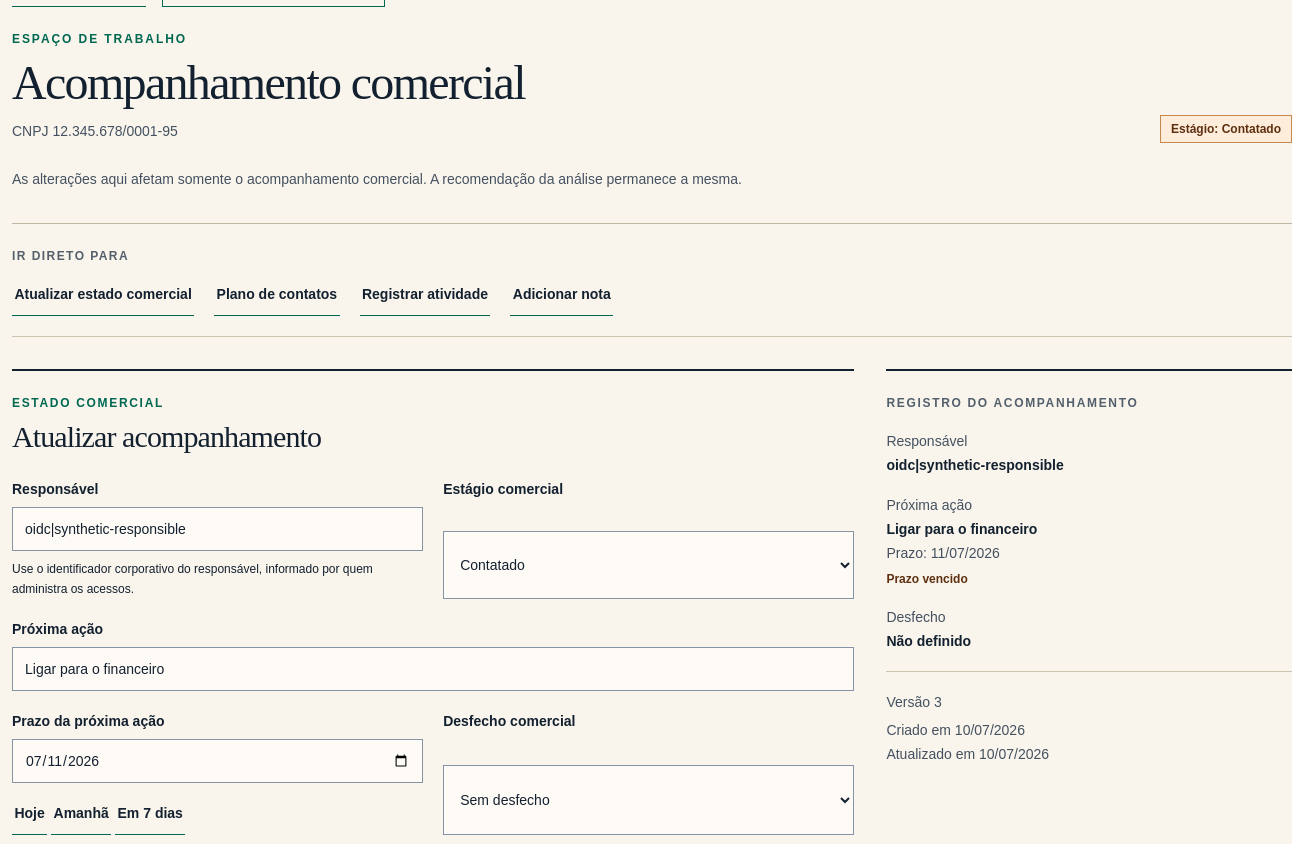
Test: commercial workspace detail page › revalidates commercial read access after PATCH 403; GET result 200
Replace the text in the field labelled "Próxima ação" with "Ação não confirmada" at point(433, 669), box [12,647,854,691]
(page scrolled)
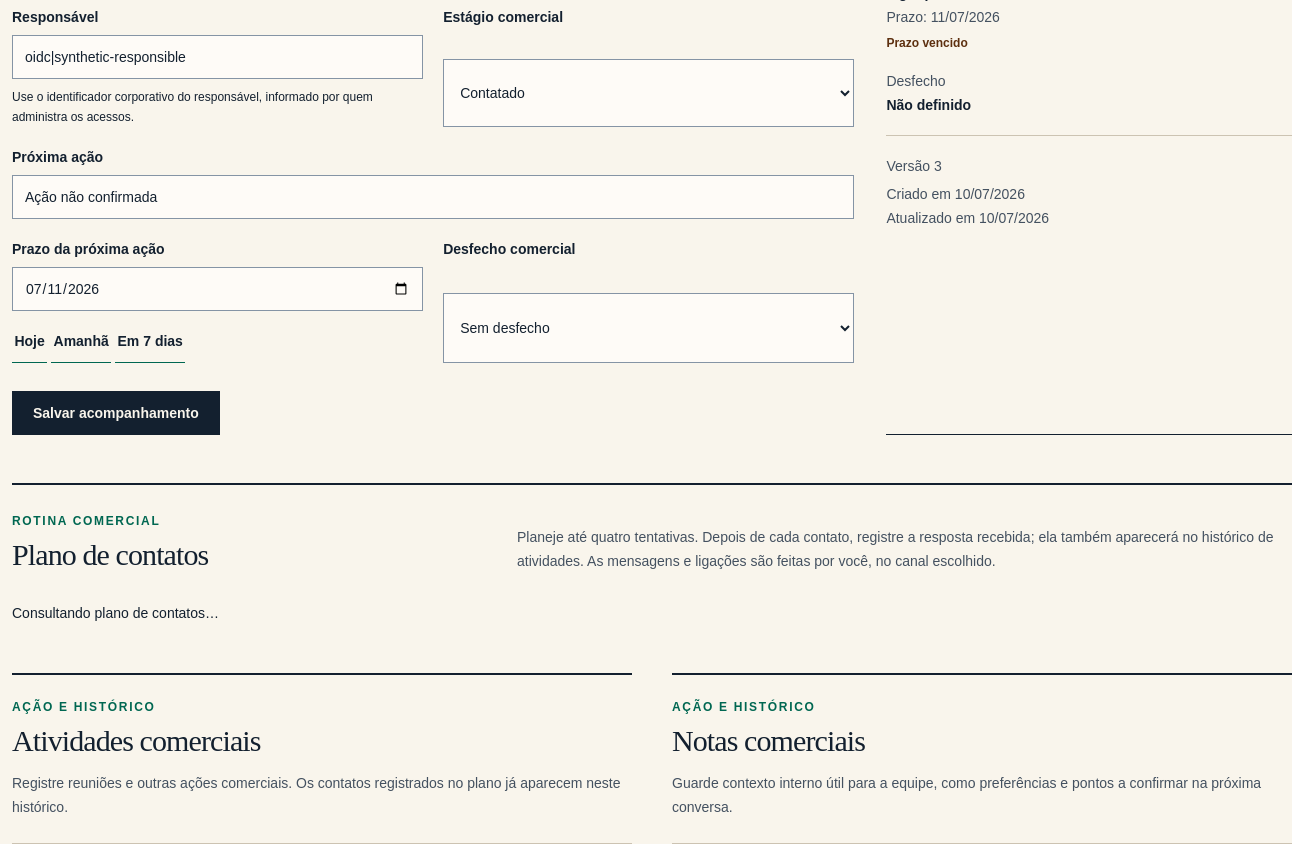
Click the button "Salvar acompanhamento" at point(116, 413), box [12,391,220,435]
(page scrolled)
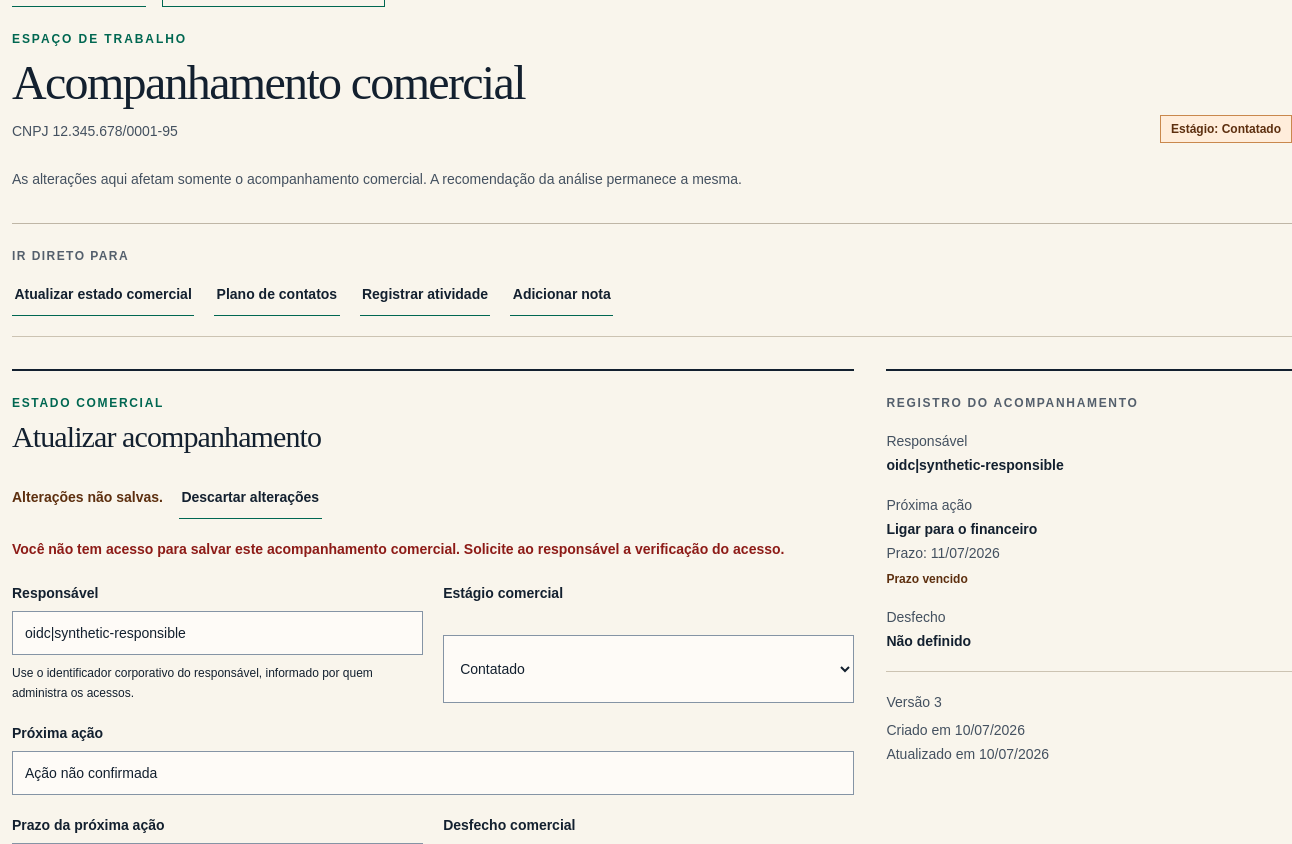
Check: the text "Estágio: Contatado" is shown, box [1160,115,1291,143]
Check: the text "Você não tem acesso para salvar este acompanhamento comercial." is shown, box [12,541,784,557]
